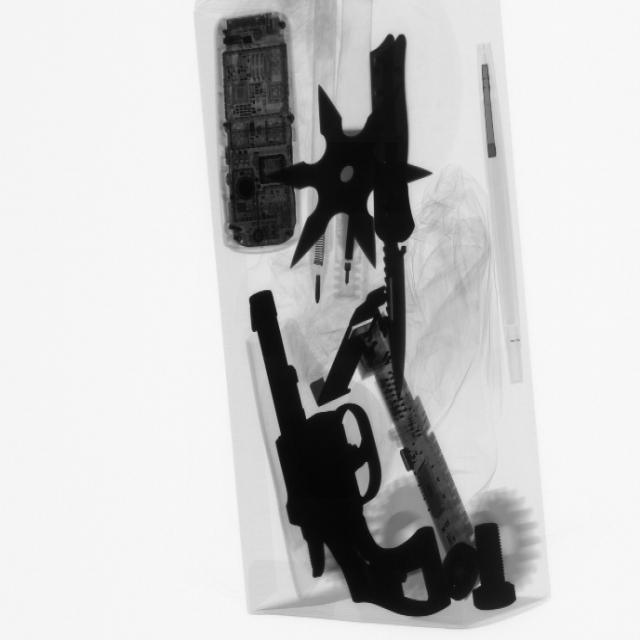GUN: (247, 289, 427, 625)
SHURIKEN: (267, 53, 428, 280)
